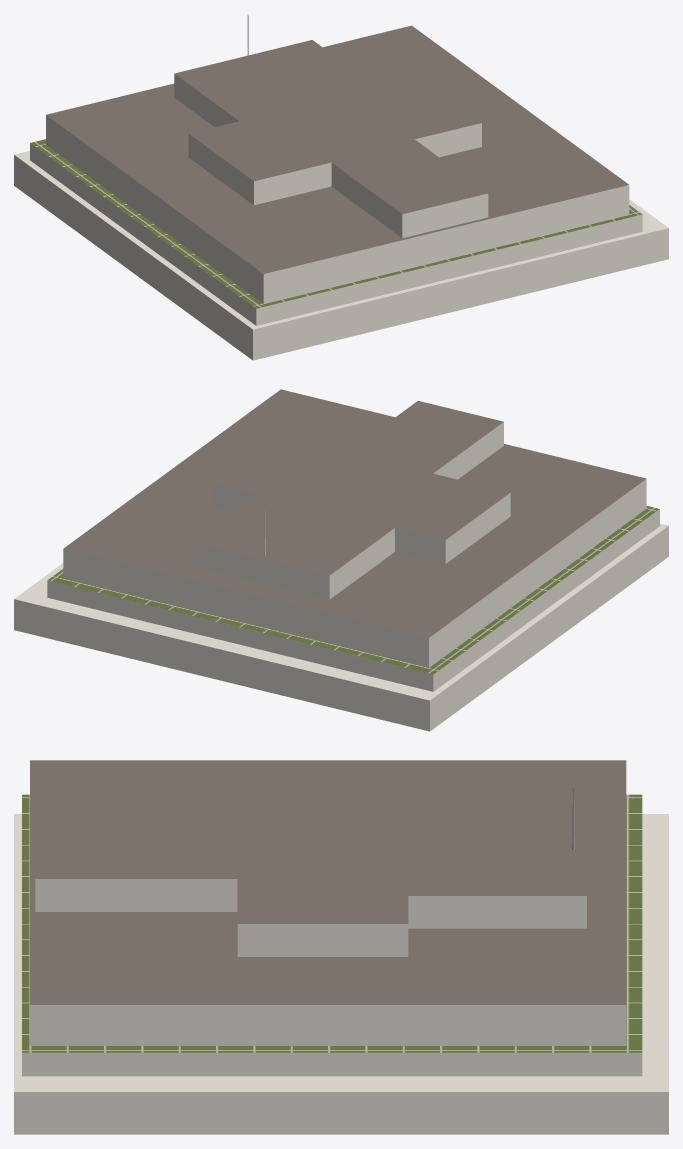
File: parliament_house_far.glb
3 views of the same model, one above another, from view 1: azimuth 30°, elevation 25°; view 2: azimuth 150°, elevation 25°; view 3: azimuth 270°, elevation 25° (orthographic). The views are drawn at different scales.
Visible parts, largest first — view 1: m_pk_roof, m_pk_far_white, m_pk_roof_garden; view 2: m_pk_roof, m_pk_far_white, m_pk_roof_garden; view 3: m_pk_roof, m_pk_far_white, m_pk_roof_garden.
Part boxes in pixels (x1,y1,x2,y2): m_pk_roof: (46, 25, 628, 273); m_pk_far_white: (14, 74, 668, 360); m_pk_roof_garden: (30, 139, 642, 308); m_pk_roof: (64, 389, 646, 637); m_pk_far_white: (14, 422, 668, 731); m_pk_roof_garden: (47, 506, 659, 674); m_pk_roof: (30, 760, 626, 1004); m_pk_far_white: (14, 814, 668, 1134); m_pk_roof_garden: (22, 794, 642, 1052).
Size of the model in its own units: 123 by 42 by 123.
4 materials, 1 textured.
